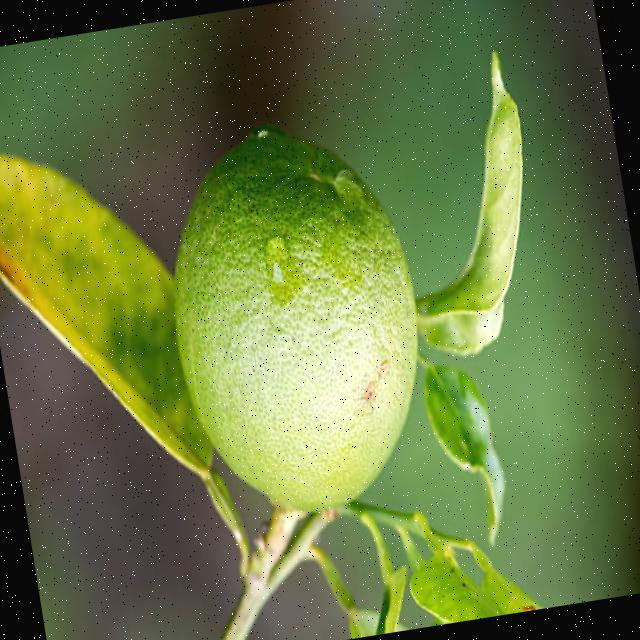Unripe: (147, 108, 447, 533)
